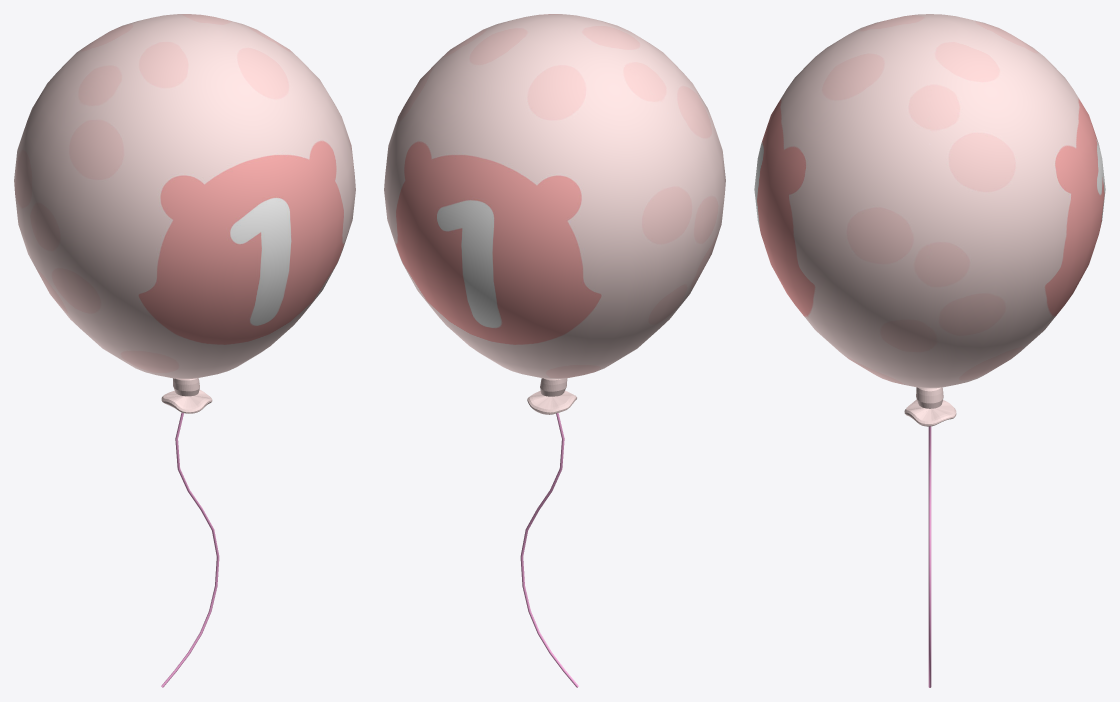
Rendered from balloon01.glb.
3 views of the same model, side by side, from view 1: azimuth 30°, elevation 25°; view 2: azimuth 150°, elevation 25°; view 3: azimuth 270°, elevation 25° (orthographic). The views are drawn at different scales.
Visible parts, largest first — view 1: Object001; view 2: Object001; view 3: Object001.
Part boxes in pixels (x1,y1,x2,y2): Object001: [14, 14, 355, 687]; Object001: [384, 14, 725, 687]; Object001: [754, 14, 1105, 687].
Size of the model in its own units: 1.28 by 2.69 by 1.28.
1 material, 1 textured.
